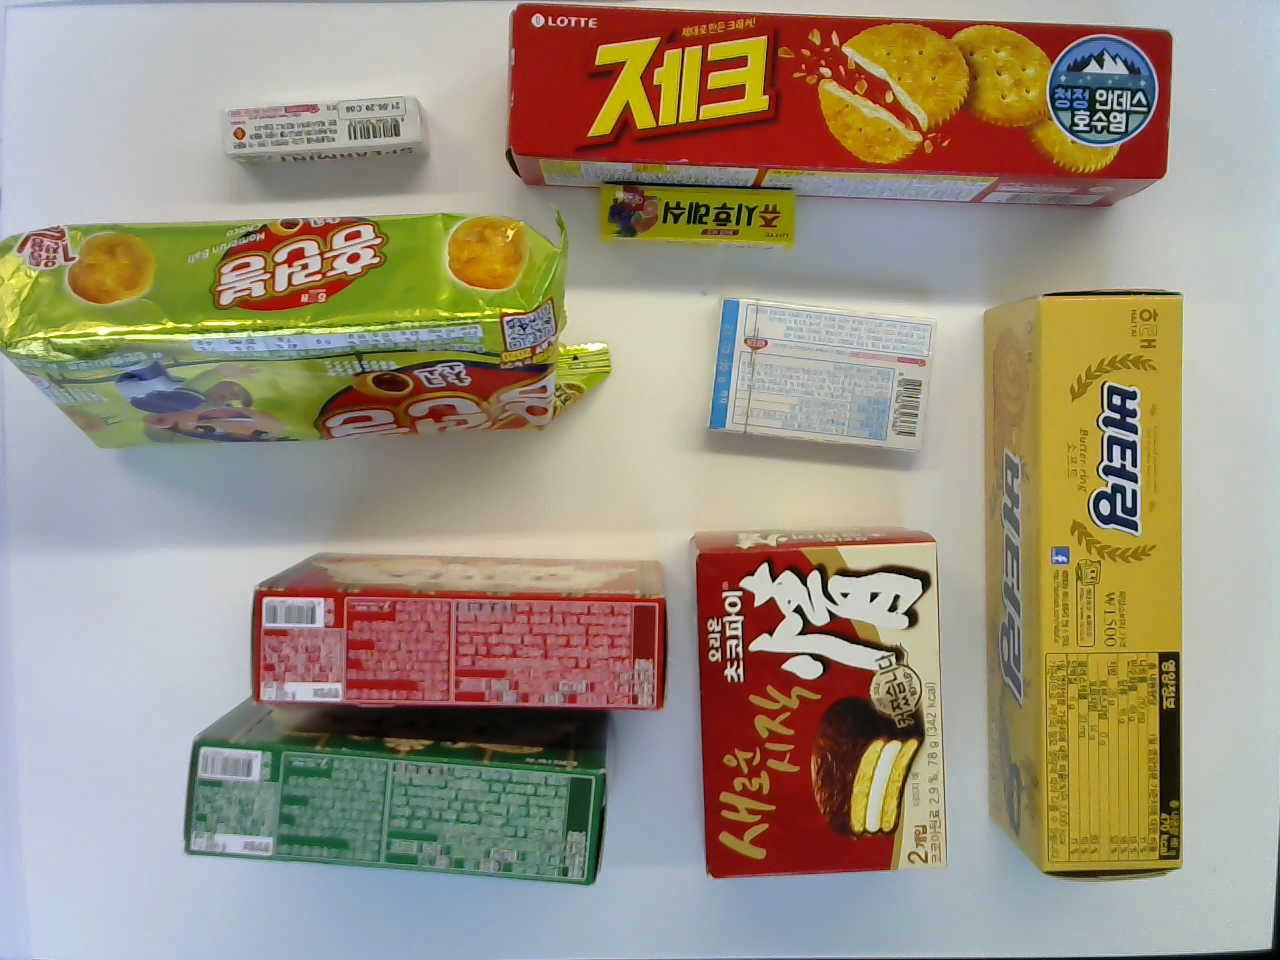ID_gum: (705, 291, 936, 470)
buttering: (976, 284, 1202, 879)
chocopie: (686, 526, 957, 886)
couque_coffee: (183, 698, 616, 887)
couque_white: (242, 545, 673, 718)
homerunball: (20, 221, 561, 431)
juicyfresh: (594, 178, 796, 252)
spearmint: (218, 96, 429, 170)
zec: (512, 5, 1164, 205)
